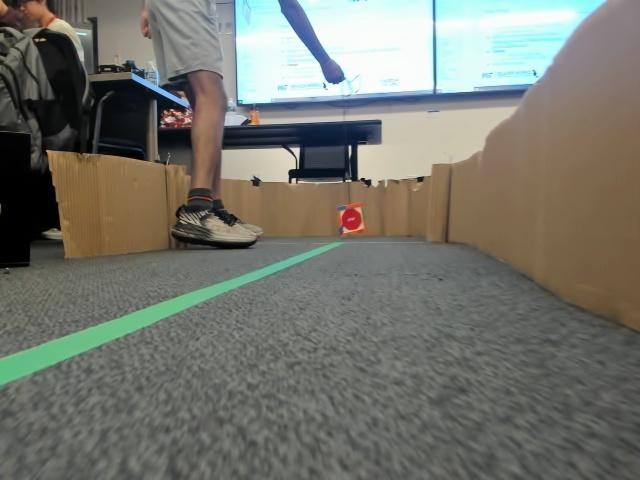Stop: (339, 209, 358, 231)
